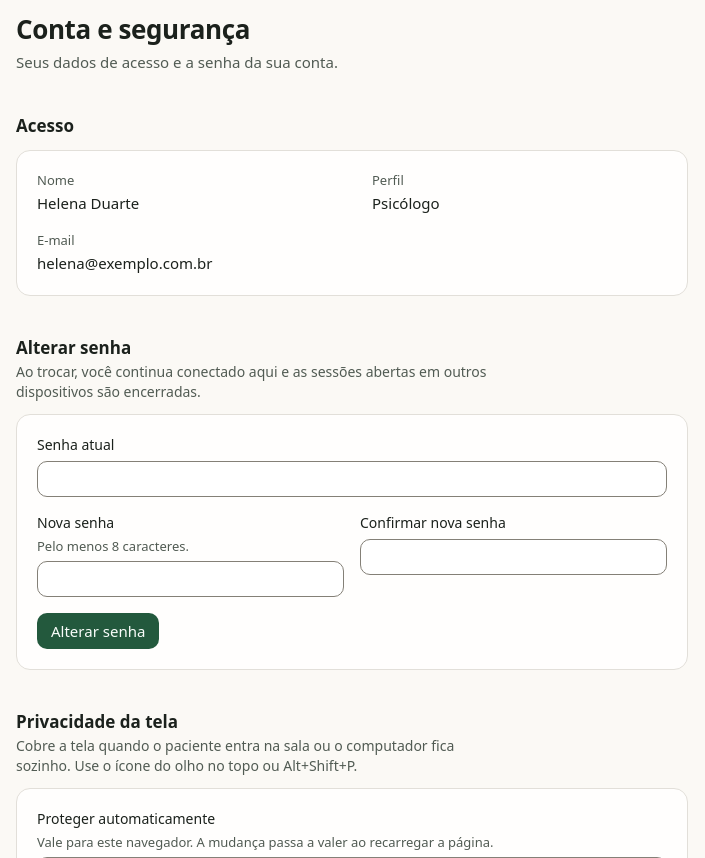
ContaPage › recusa nova senha igual à atual
Step 1. Type "senha-antiga" into the password field labelled "Senha atual" → (352, 479), box [37, 461, 667, 497]
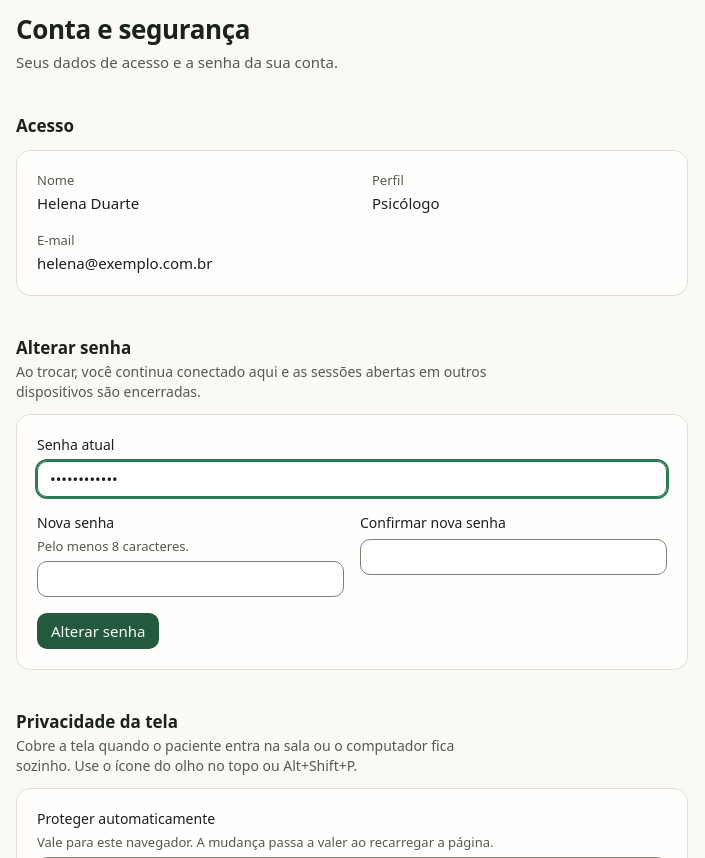
Step 2. Type "senha-antiga" into the password field labelled "Nova senha" → (190, 579), box [37, 561, 344, 597]
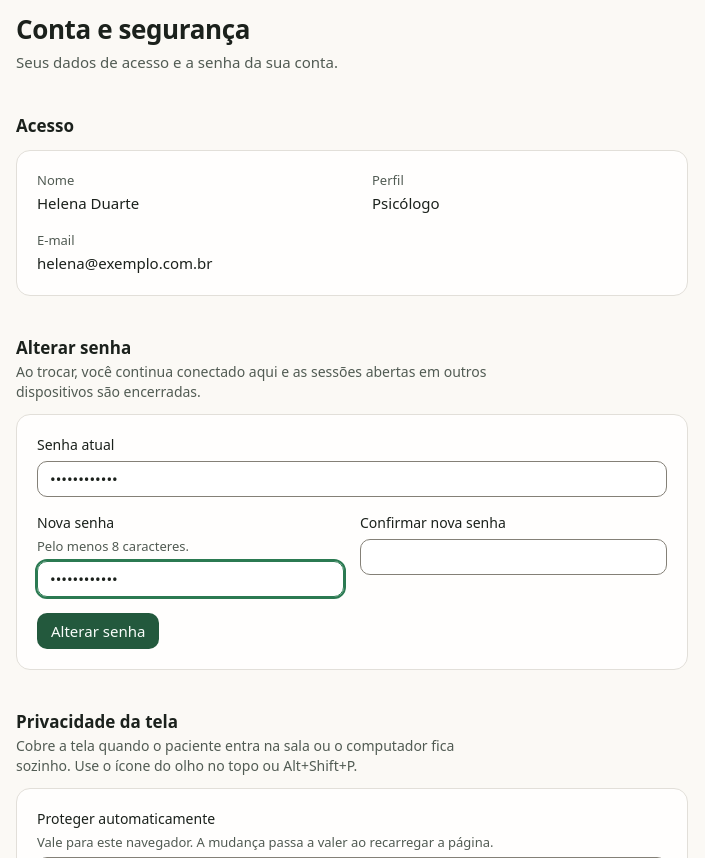
Step 3. Type "senha-antiga" into the password field labelled "Confirmar nova senha" → (514, 557), box [360, 539, 667, 575]
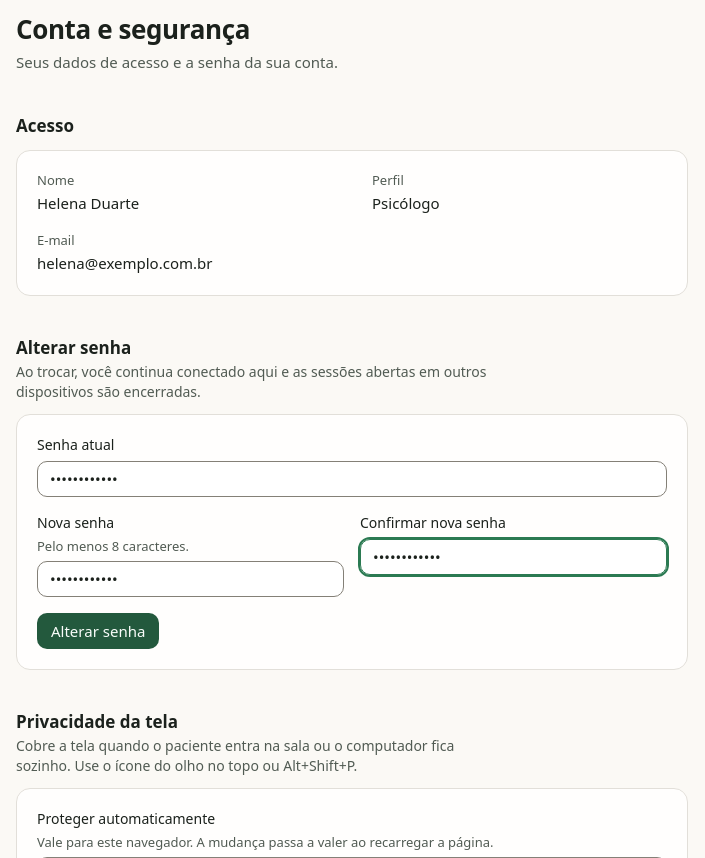
Step 4. Click the button "Alterar senha" → (98, 631), box [37, 613, 159, 649]
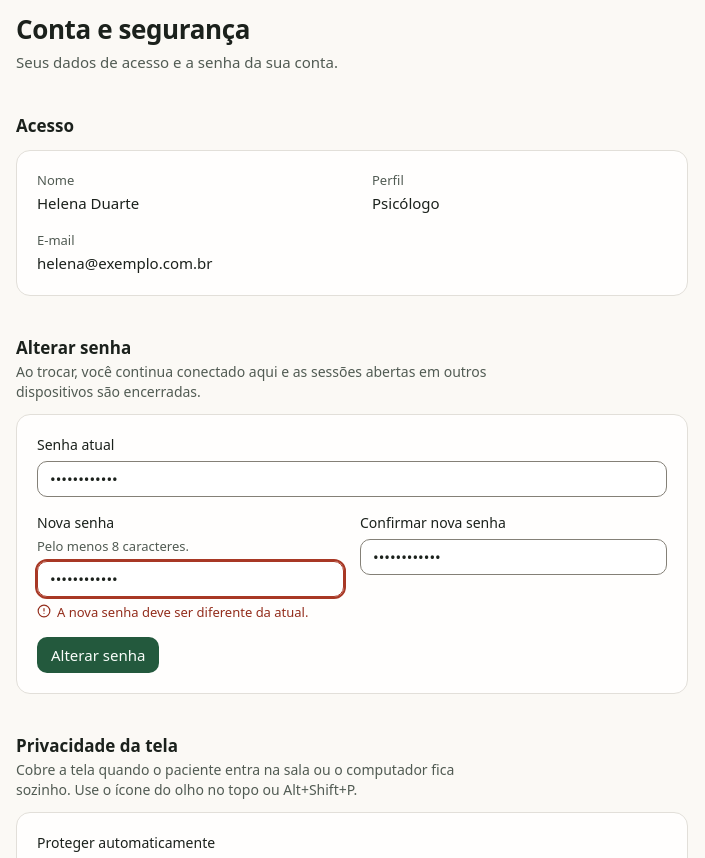
Expected: the text "A nova senha deve ser diferente da atual." is shown, [37, 603, 344, 621]
